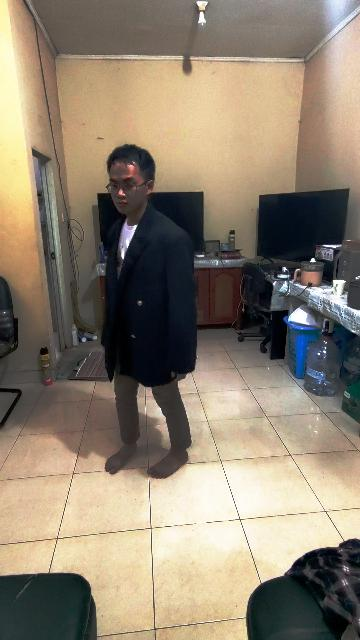berdiri: (95, 141, 199, 485)
